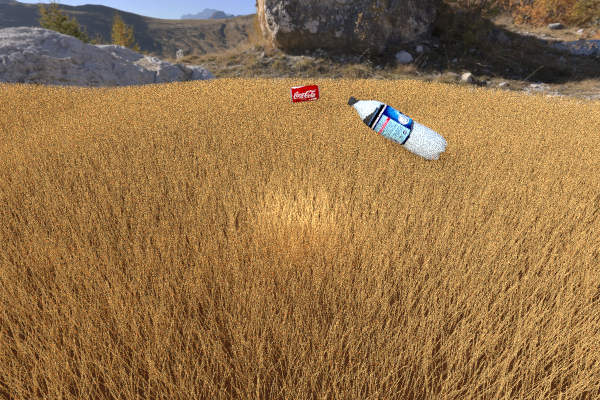bottle: (350, 96, 451, 160)
can: (322, 117, 386, 167), (146, 114, 213, 153)
